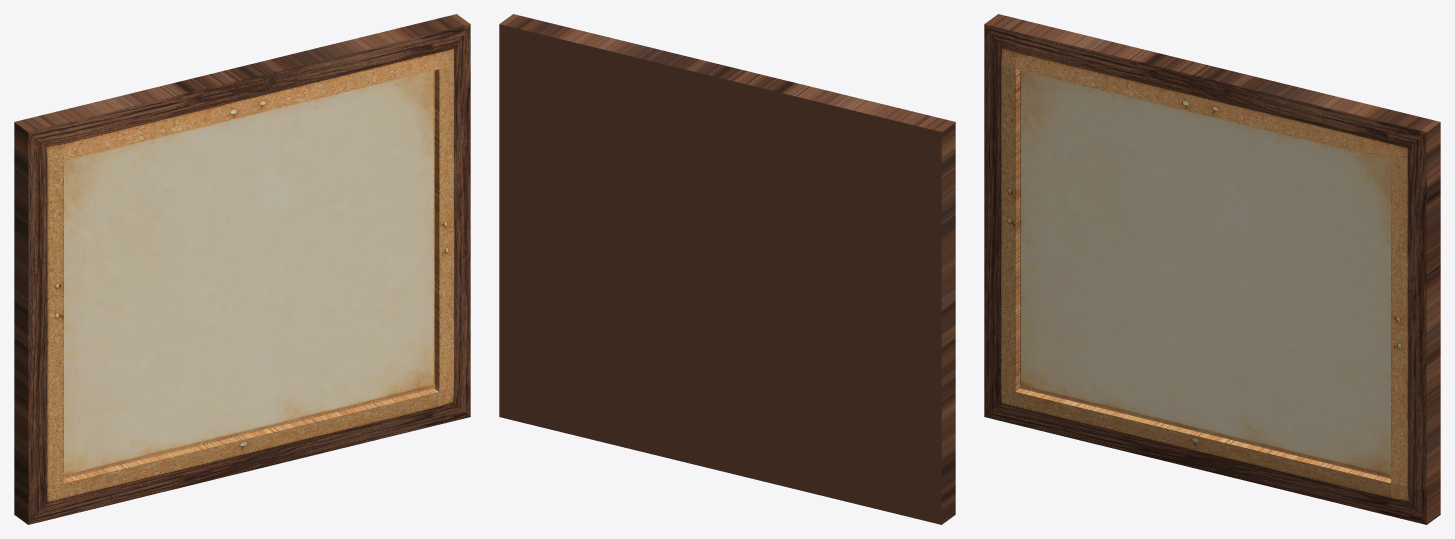
File: panel_intro.glb
The picture shows the model from 3 angles, left to right: view 1: azimuth 30°, elevation 25°; view 2: azimuth 150°, elevation 25°; view 3: azimuth 330°, elevation 25°; orthographic projection.
Visible parts, largest first — view 1: panel_intro; view 2: panel_intro; view 3: panel_intro.
Boxes of the visible parts, x1,y1,x2,y2 form: panel_intro: (14, 14, 470, 524); panel_intro: (499, 14, 955, 524); panel_intro: (984, 14, 1440, 524).
Size of the model in its own units: 0.66 by 0.56 by 0.042.
1 material, 1 textured.
